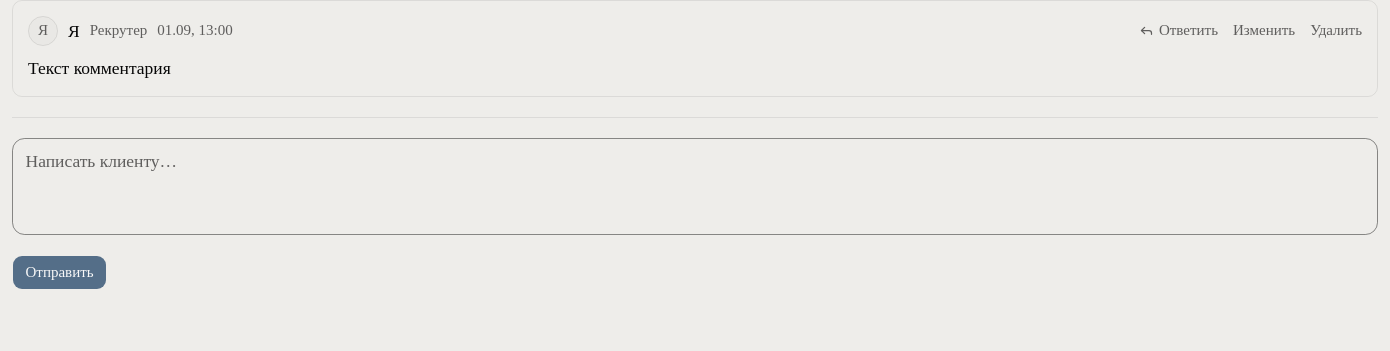
чужая реплика, с правом comment.deleteAny › подтверждение своей реплики — без имени
Step 1. Click the button "Удалить" → (1336, 31), box 1310,21 -> 1362,41
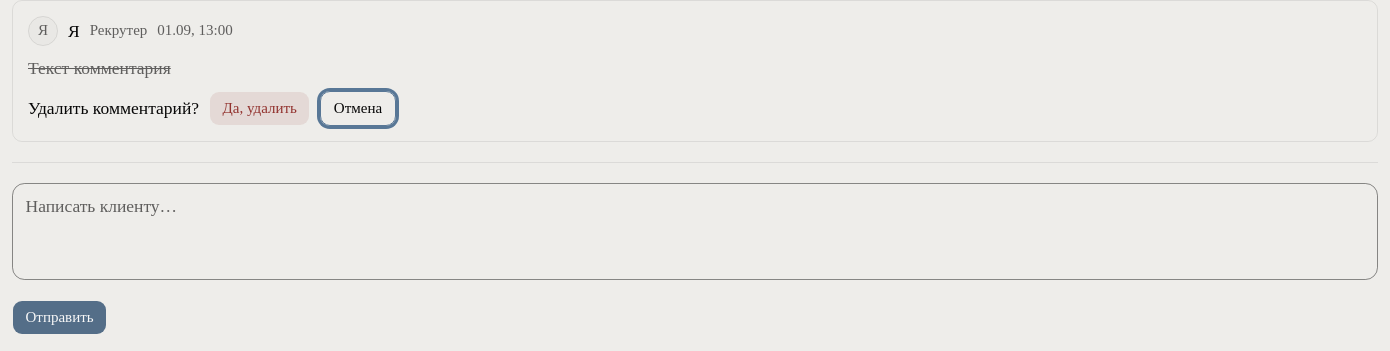
expect the text "Удалить комментарий?" is shown: met, box 28,96 -> 199,121
